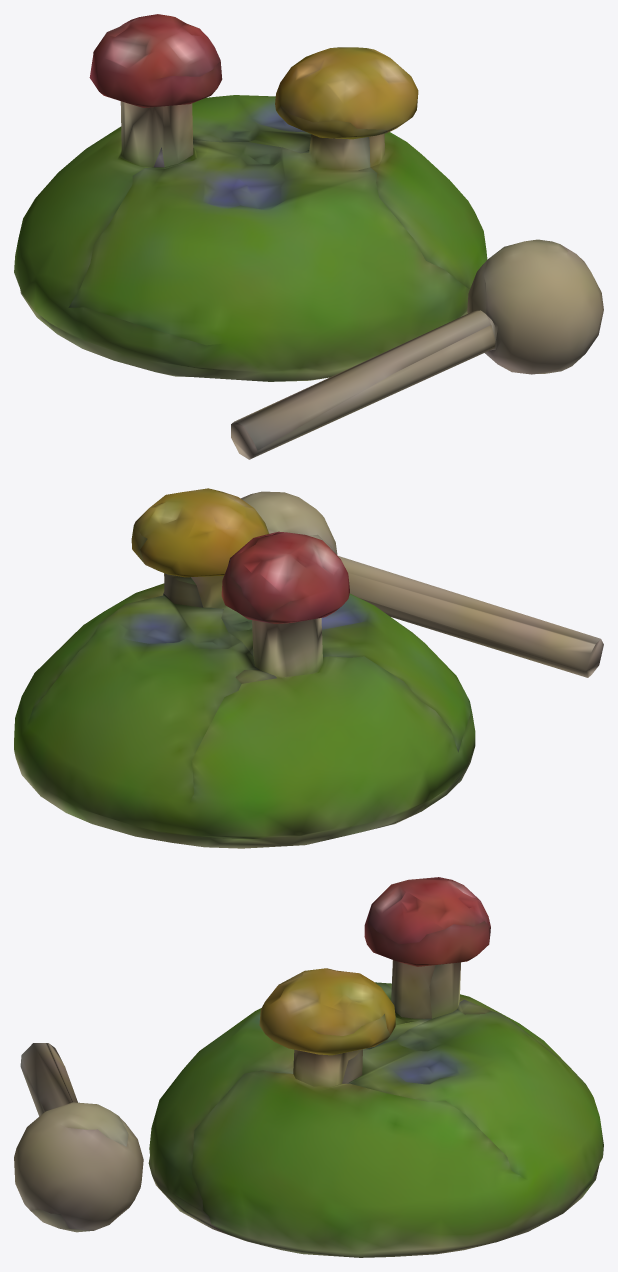
File: POUNDING_MUSHROOMS-medium.glb
3 views of the same model, one above another, from view 1: azimuth 30°, elevation 25°; view 2: azimuth 150°, elevation 25°; view 3: azimuth 270°, elevation 25° (orthographic). The views are drawn at different scales.
Visible parts, largest first — view 1: POUNDING_MUSHROOMS; view 2: POUNDING_MUSHROOMS; view 3: POUNDING_MUSHROOMS.
Part boxes in pixels (x1,y1,x2,y2): POUNDING_MUSHROOMS: (14, 14, 603, 459); POUNDING_MUSHROOMS: (14, 488, 603, 848); POUNDING_MUSHROOMS: (14, 877, 603, 1257).
Bounding box in the file's own units: 0.1644 × 0.0985 × 0.2132.
1 material, 1 textured.
